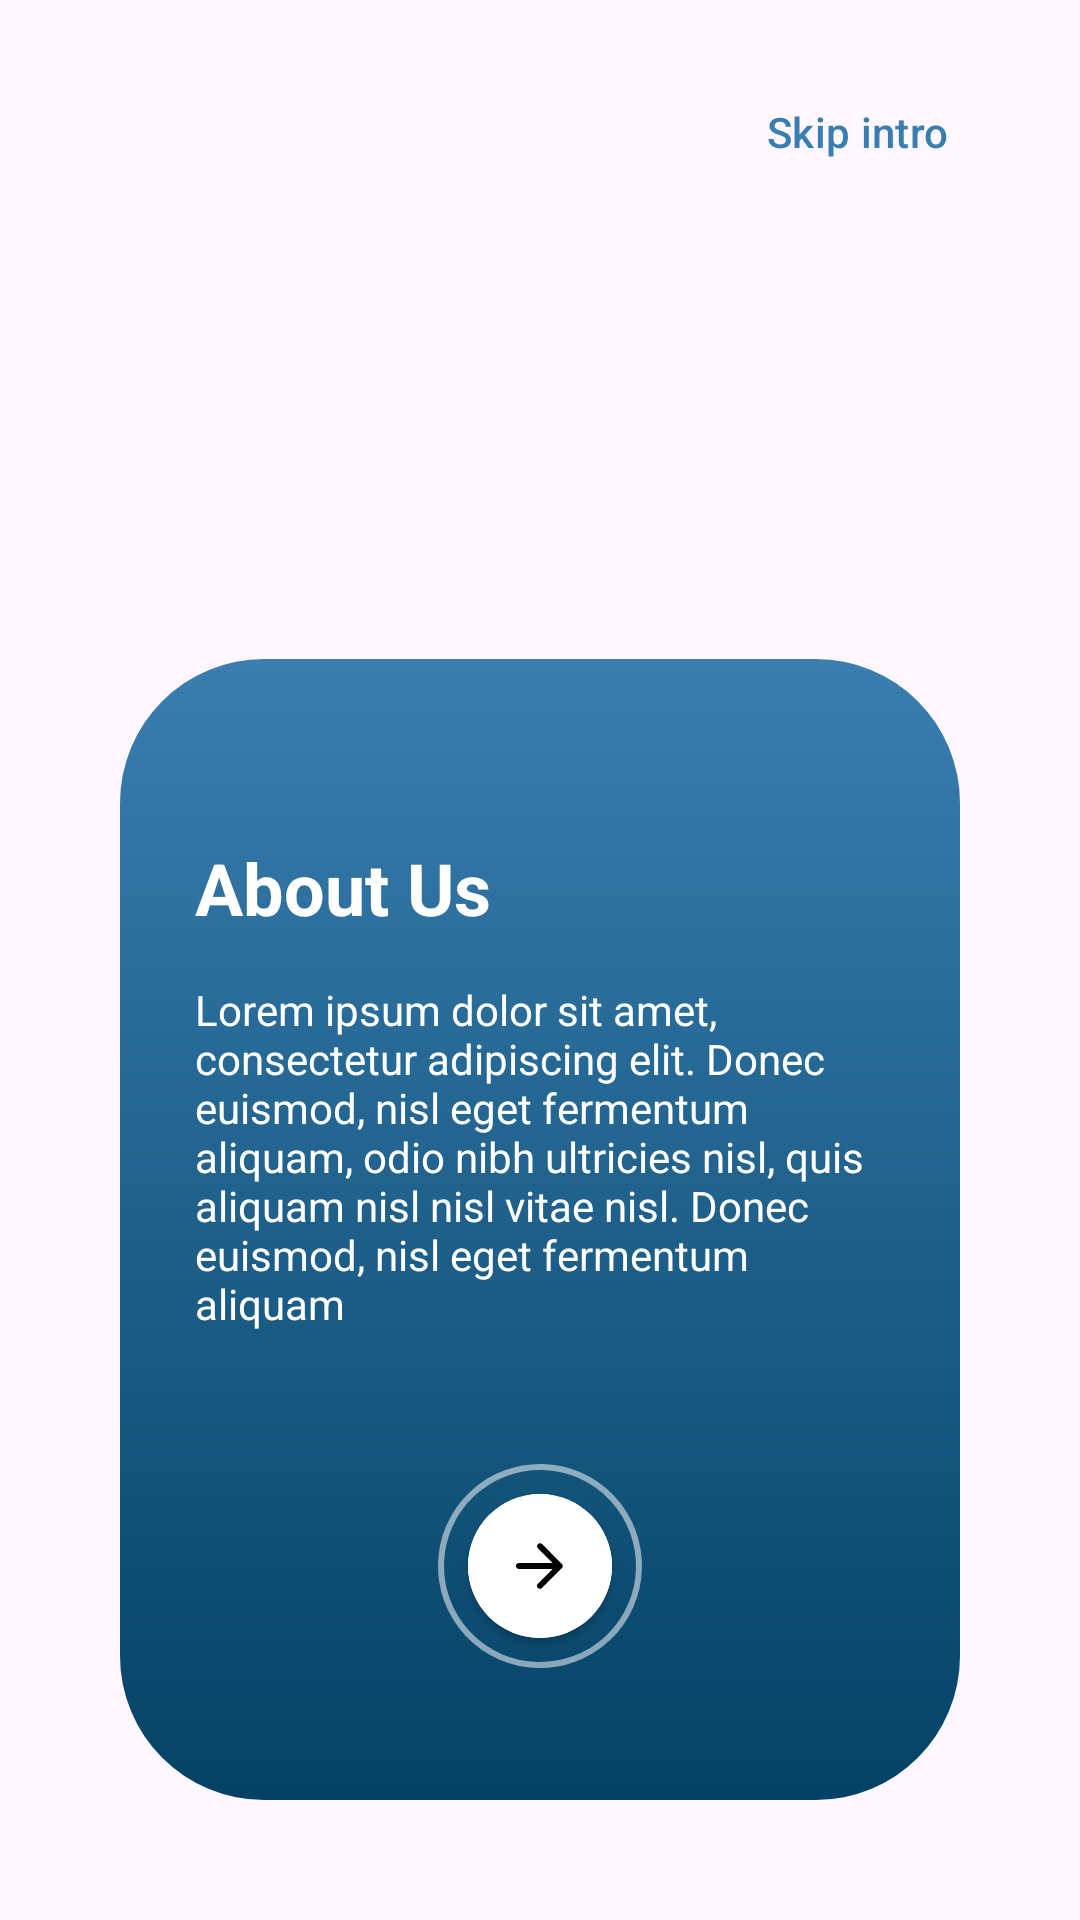

Where to tap for icons on this 1080 x 1920 app screen, as point (x, y):
arrow forward: point (540, 1566)
